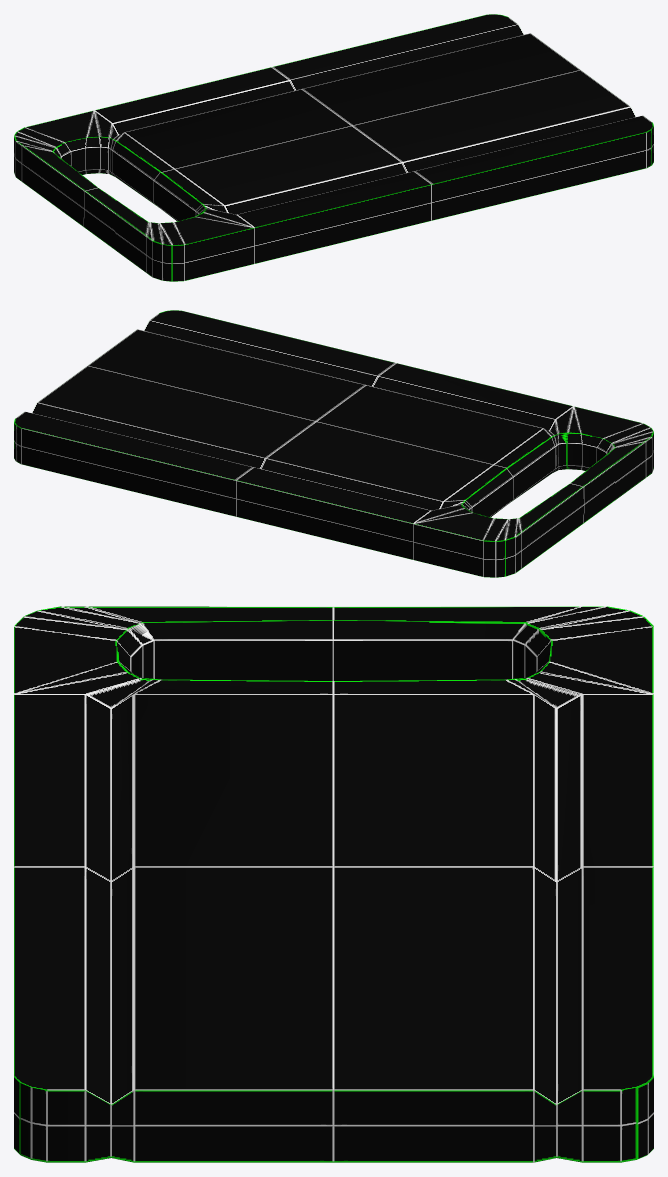
Rendered from Asset_utensil_board.FBX.
The picture shows the model from 3 angles, top to bottom: view 1: azimuth 30°, elevation 25°; view 2: azimuth 150°, elevation 25°; view 3: azimuth 270°, elevation 25°; orthographic projection. The views are drawn at different scales.
Visible parts, largest first — view 1: Box003; view 2: Box003; view 3: Box003.
Part boxes in pixels (box(x1,y1,x2,y2)): Box003: box(14, 14, 653, 281); Box003: box(14, 310, 653, 577); Box003: box(14, 606, 653, 1162).
Bounding box in the file's own units: 34.47 × 2.41 × 19.27.
